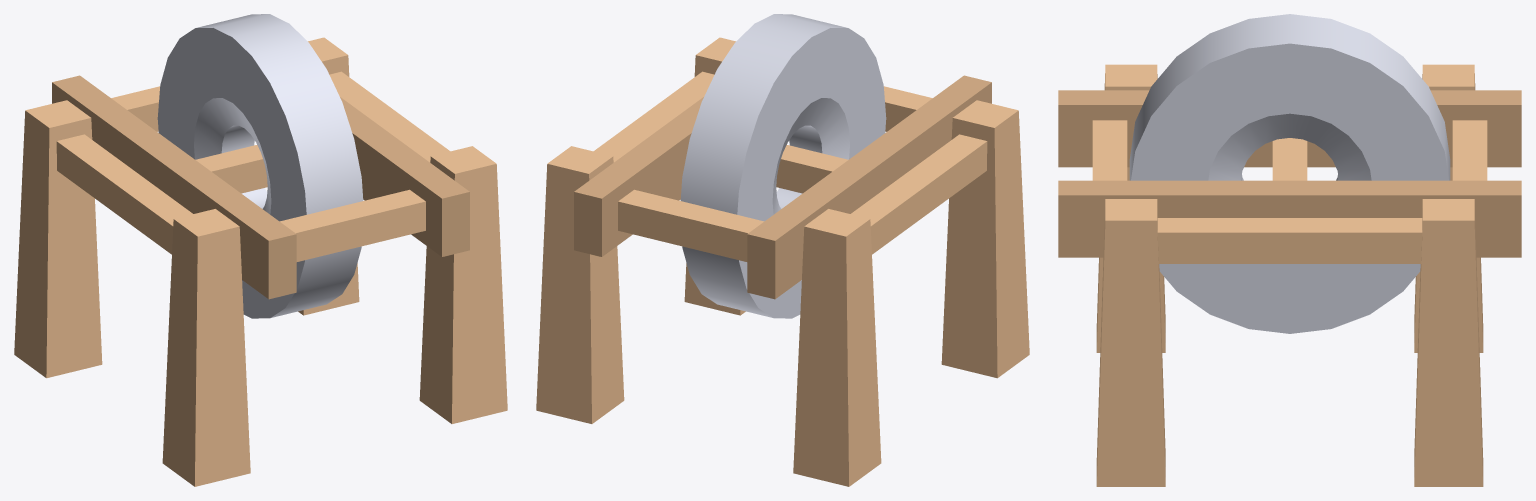
3 renders of one model, left to right at view 1: azimuth 30°, elevation 25°; view 2: azimuth 150°, elevation 25°; view 3: azimuth 270°, elevation 25°, orthographic. The views are drawn at different scales.
Parts seen in each view (by area): view 1: workbenchGrind; view 2: workbenchGrind; view 3: workbenchGrind.
Boxes of the visible parts, x1,y1,x2,y2 form: workbenchGrind: (14,14,507,486); workbenchGrind: (536,14,1029,486); workbenchGrind: (1058,14,1521,486).
Size of the model in its own units: 0.2604 by 0.28 by 0.3125.
